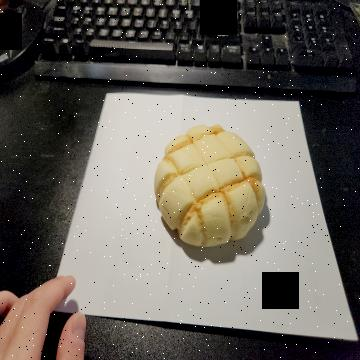melon_bread: (155, 123, 266, 247)
